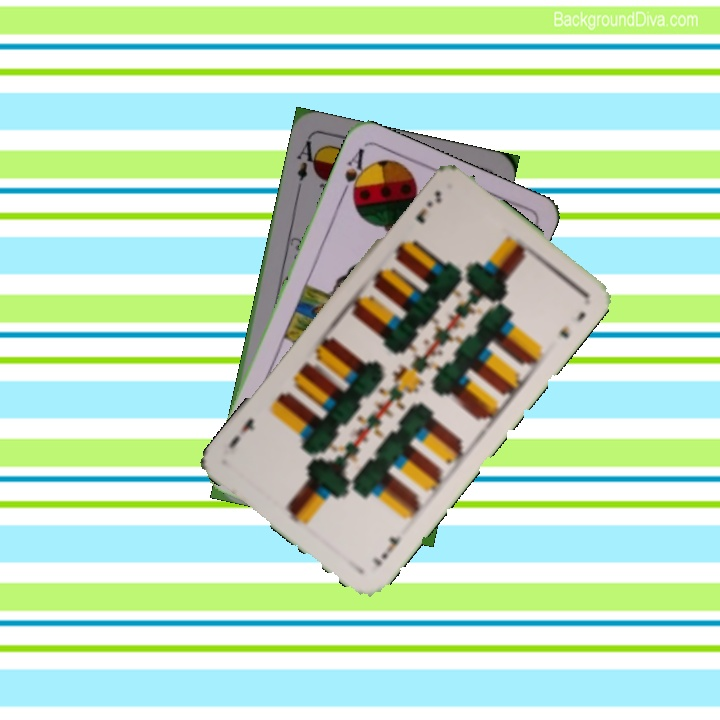E7: (368, 530, 405, 570), (411, 186, 444, 227)
EA: (292, 134, 322, 184)
SA: (336, 144, 371, 204)
